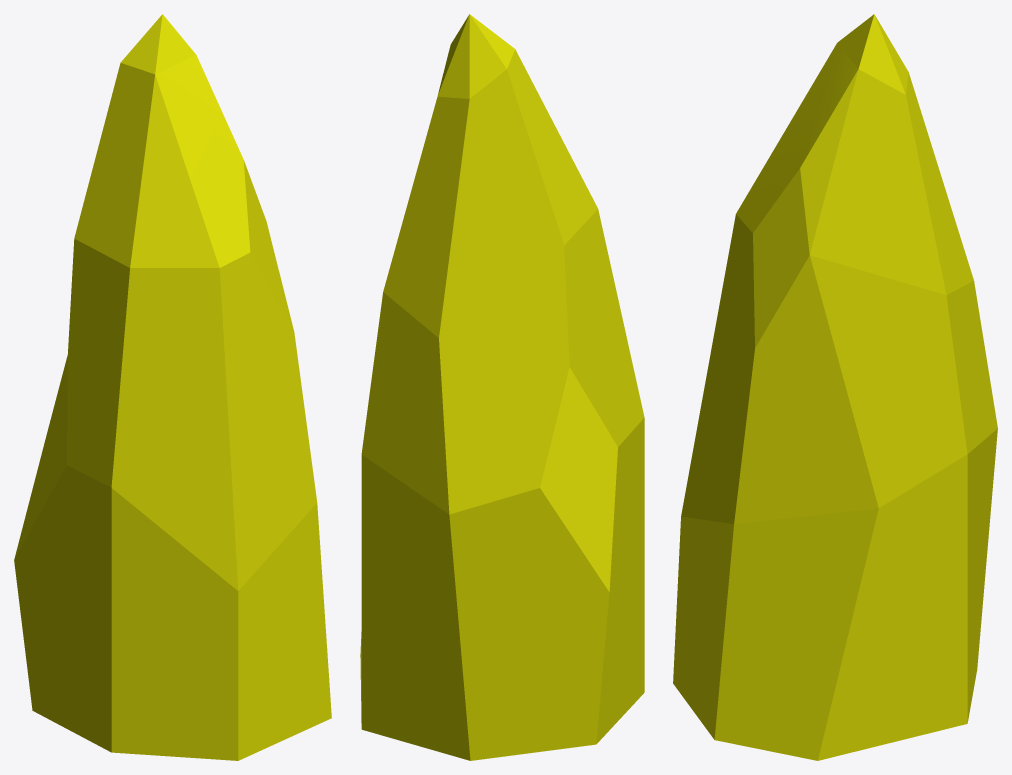
3 views of the same model, side by side, from view 1: azimuth 30°, elevation 25°; view 2: azimuth 150°, elevation 25°; view 3: azimuth 270°, elevation 25° (orthographic). The views are drawn at different scales.
Visible parts, largest first — view 1: rock2; view 2: rock2; view 3: rock2.
Boxes of the visible parts, x1,y1,x2,y2 form: rock2: (14, 14, 331, 760); rock2: (360, 14, 644, 760); rock2: (673, 14, 997, 760).
Size of the model in its own units: 0.7689 by 1.79 by 0.7746.
1 material, 1 textured.
